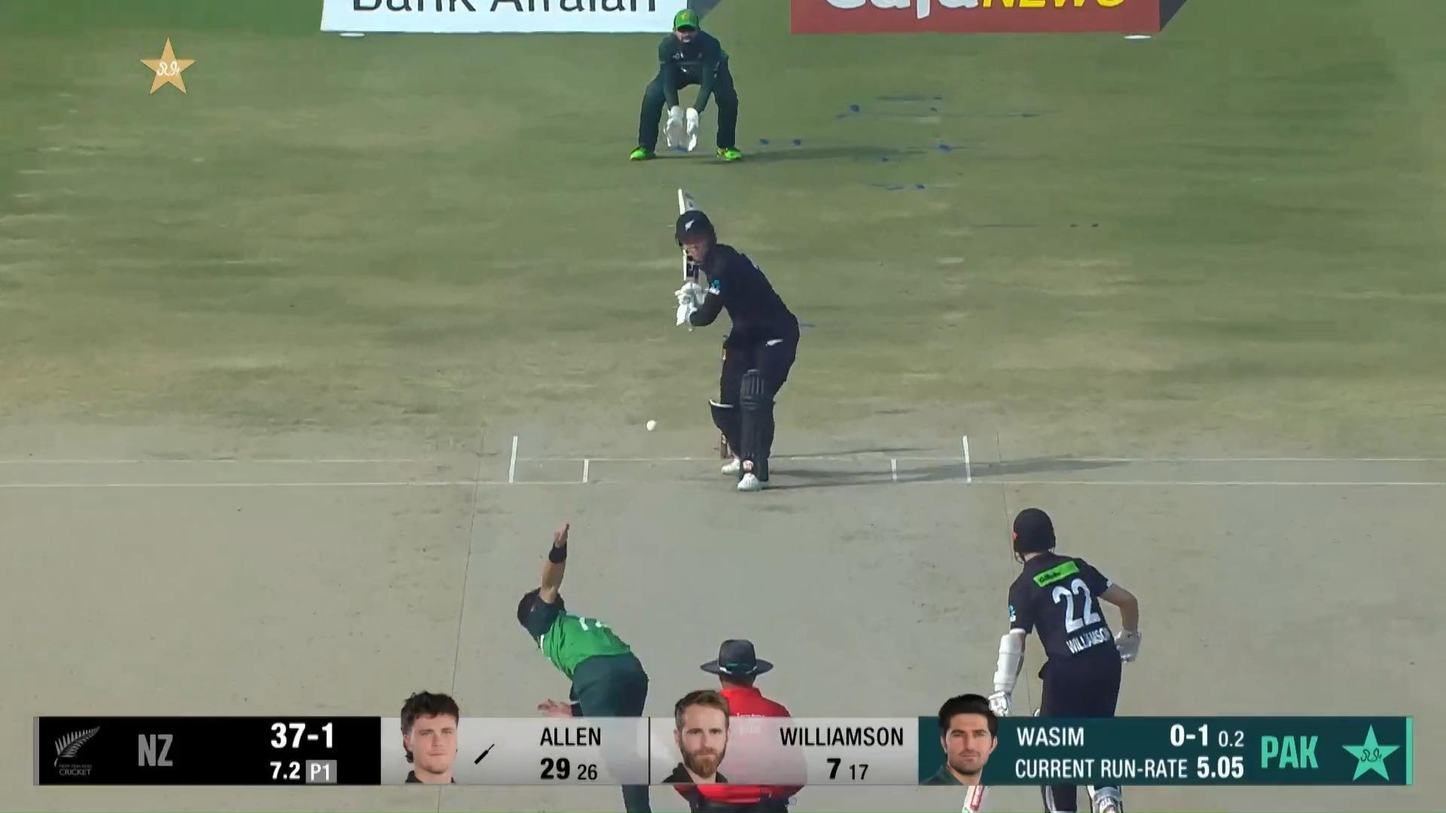BM 1: (673, 183, 802, 494)
BO: (516, 521, 653, 813)
